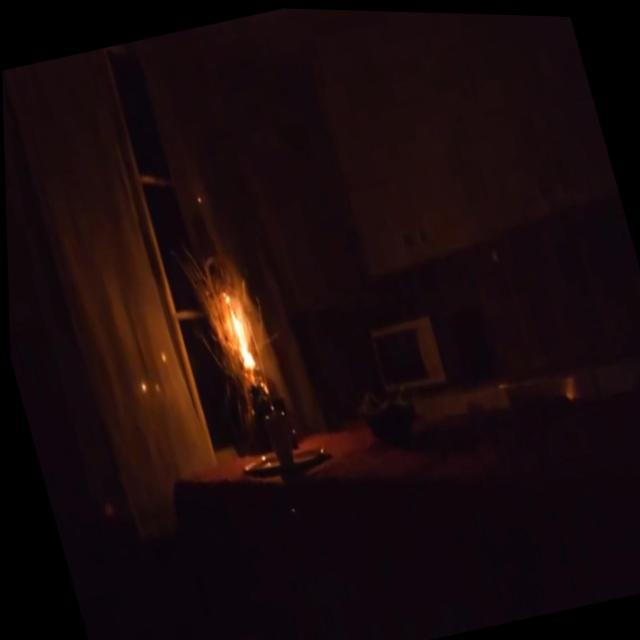fire: (207, 280, 273, 388)
